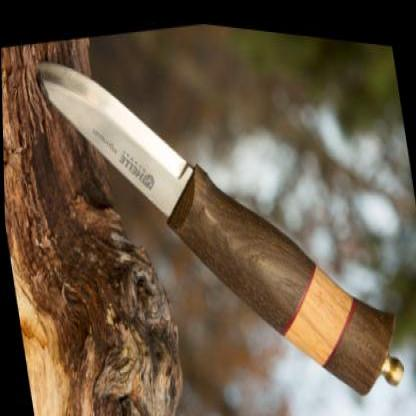knife: (23, 16, 224, 265)
